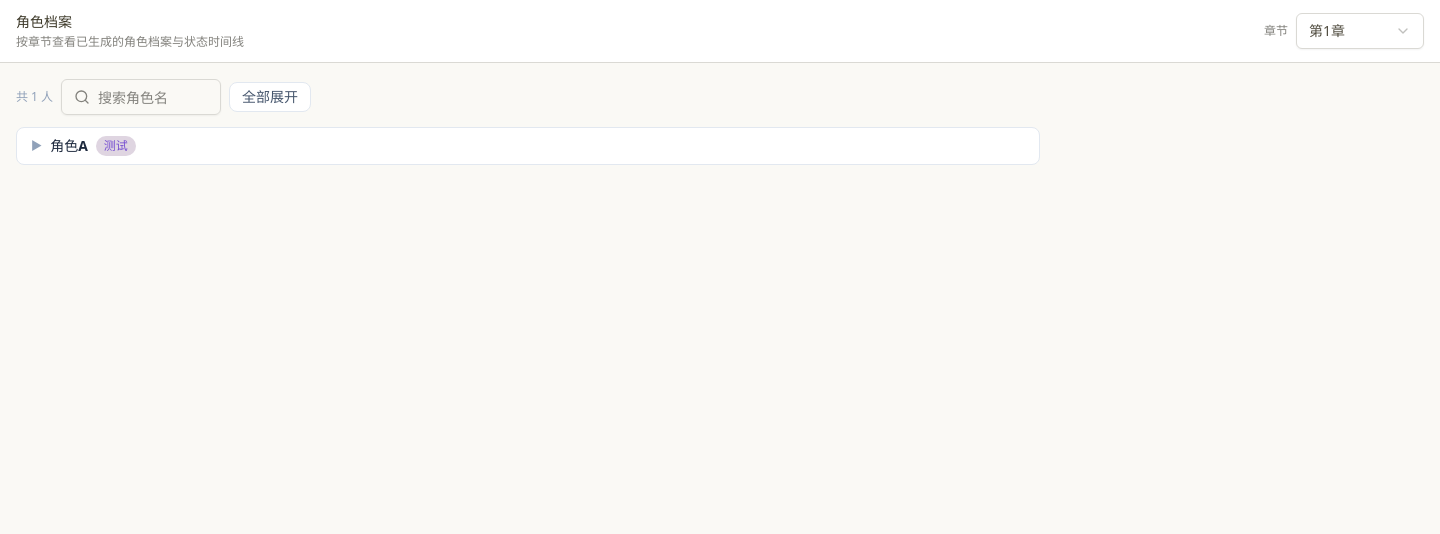
Test: CharacterArchivePage › 渲染章节下拉与该章角色 + 滑块 label
Check: the dropdown named "选择章节" reads "第1章", box [1296,13,1424,49]
Check: the text "角色A" is shown, box [50,136,88,156]
Click the button "全部展开": (270, 97) [229,82,311,112]
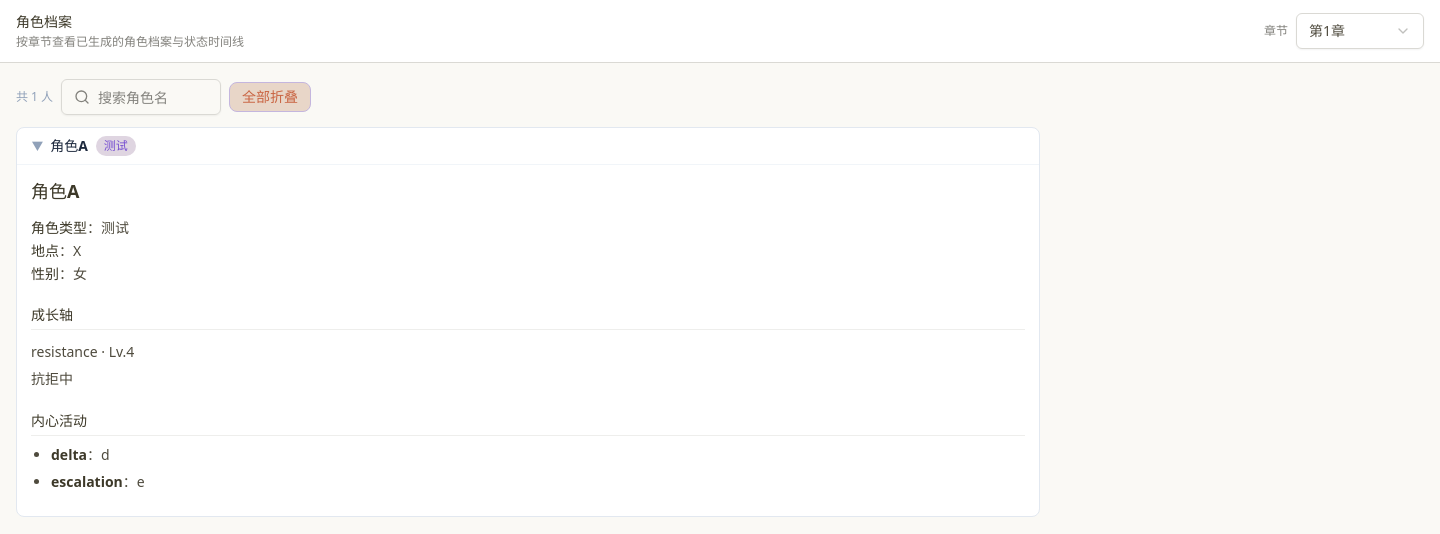
Check: the text "抗拒中" is shown, box [31,369,73,388]
